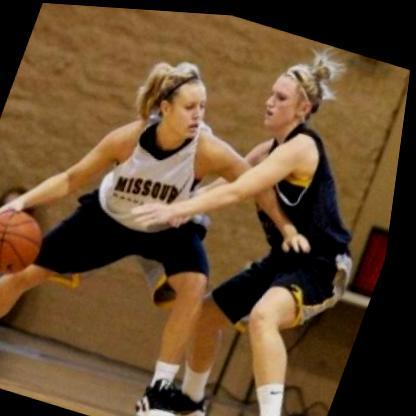basketball: (0, 197, 64, 285)
